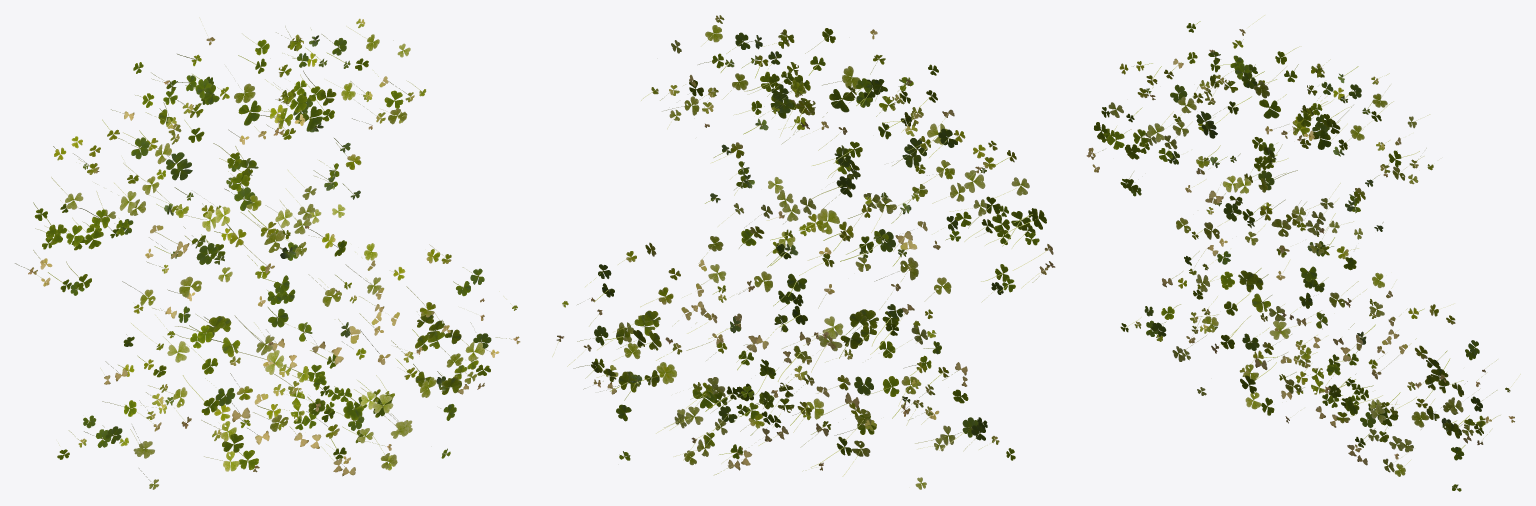
File: Clovers_02_Var1_LOD2.fbx
3 views of the same model, side by side, from view 1: azimuth 30°, elevation 25°; view 2: azimuth 150°, elevation 25°; view 3: azimuth 330°, elevation 25° (orthographic). The views are drawn at different scales.
Visible parts, largest first — view 1: Var1_LOD2; view 2: Var1_LOD2; view 3: Var1_LOD2.
Boxes of the visible parts, bbox=[...] form: Var1_LOD2: bbox=[15, 17, 520, 489]; Var1_LOD2: bbox=[552, 15, 1055, 489]; Var1_LOD2: bbox=[1086, 15, 1520, 491].
Bounding box in the file's own units: 136 × 128 × 15.39.
